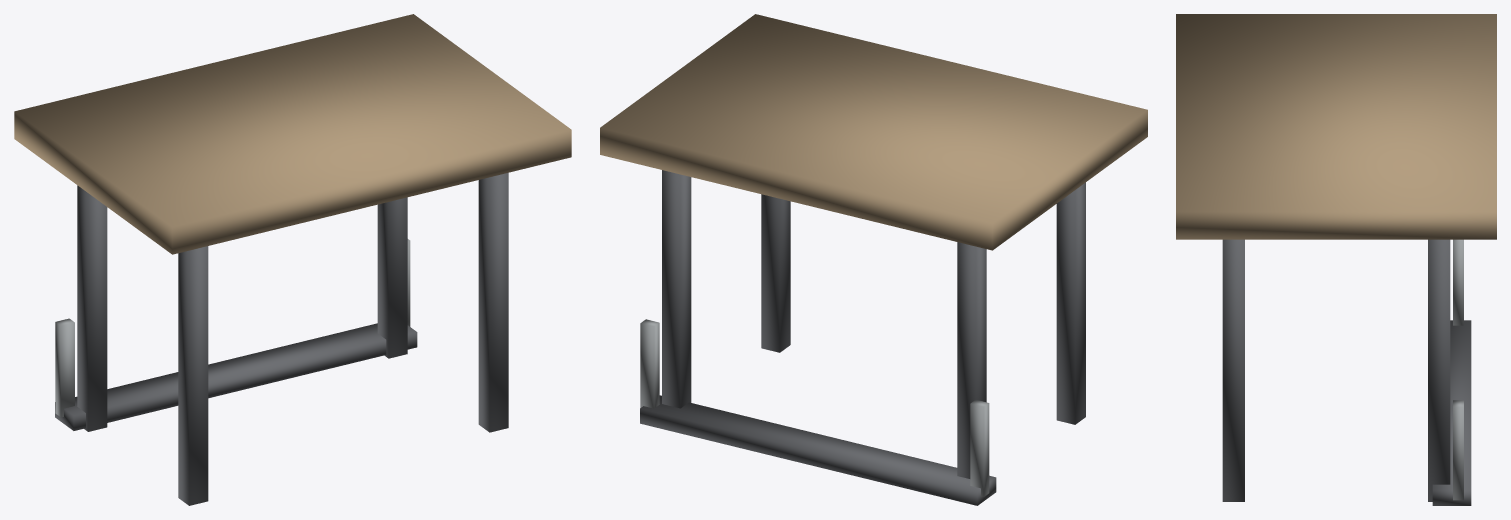
The model's file is diner_four_top__reinforced.glb.
The picture shows the model from 3 angles, left to right: view 1: azimuth 30°, elevation 25°; view 2: azimuth 150°, elevation 25°; view 3: azimuth 270°, elevation 25°; orthographic projection. The views are drawn at different scales.
Visible parts, largest first — view 1: world; view 2: world; view 3: world.
Part boxes in pixels (x1=…): world: x1=14, y1=14, x2=571, y2=505; world: x1=600, y1=14, x2=1147, y2=505; world: x1=1176, y1=14, x2=1496, y2=505.
Bounding box in the file's own units: 1.08 × 0.7905 × 0.7416.
